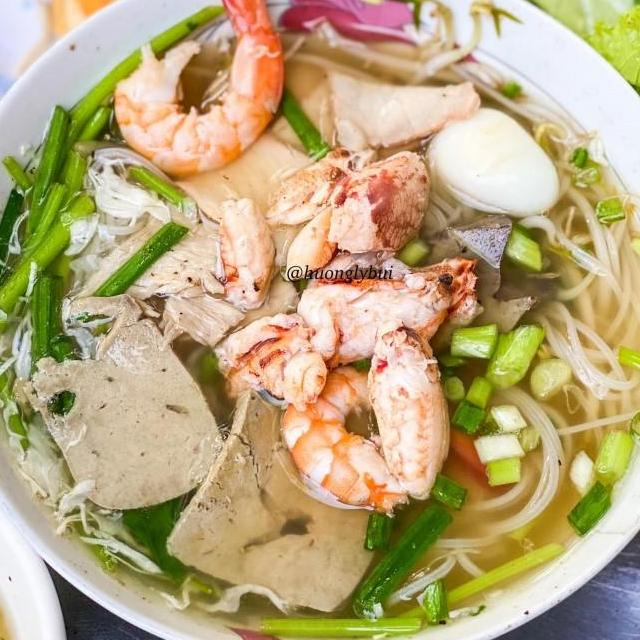banh hu tieu: (369, 261, 640, 633), (45, 142, 174, 300)
gan: (380, 206, 567, 372)
hu tieu: (0, 0, 640, 640)
thit heo: (60, 196, 310, 358), (156, 130, 355, 278), (259, 64, 486, 178)
tom: (274, 356, 526, 522), (108, 0, 291, 180)
trung: (422, 96, 564, 222)
